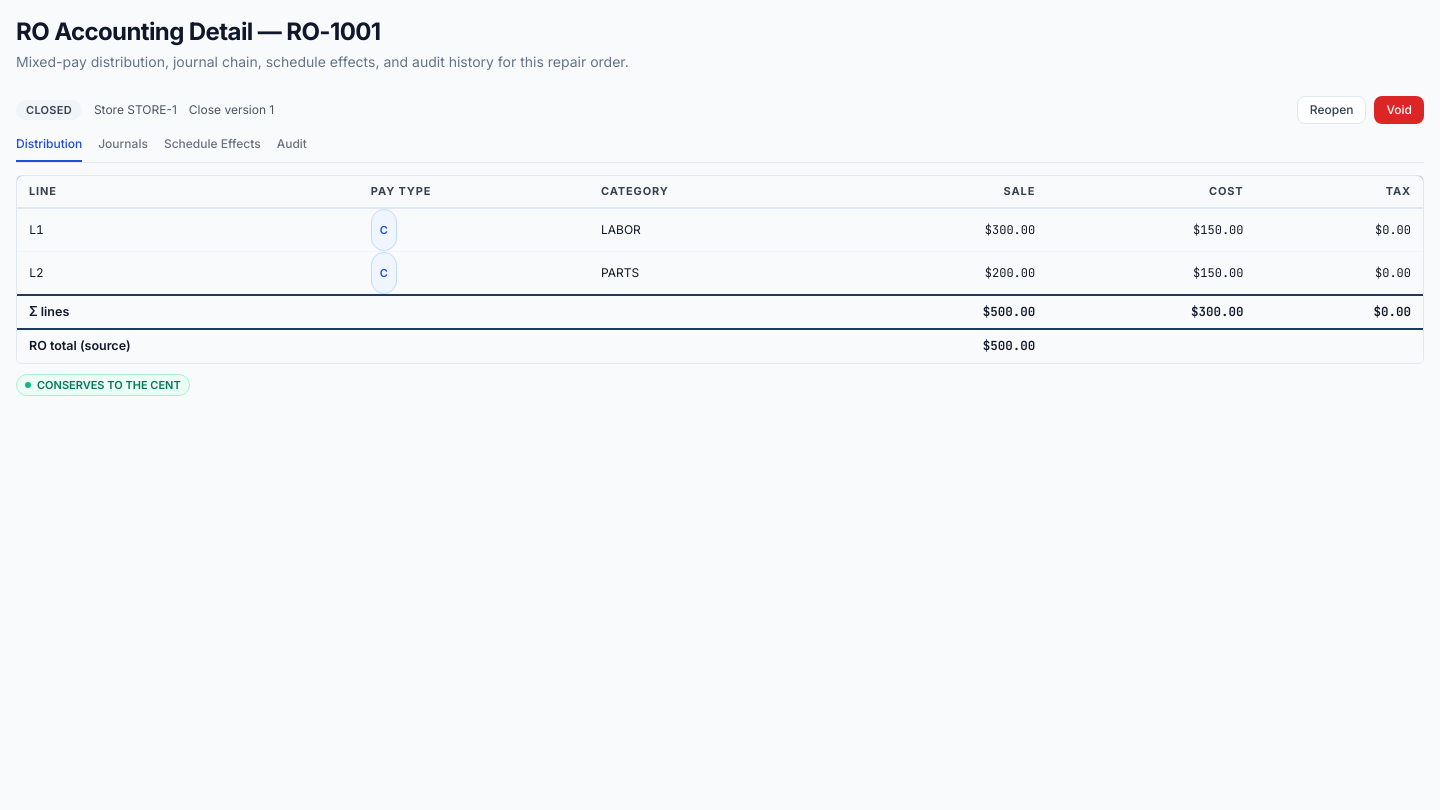
Test case: RoAccountingDetail › shows the refusal reason inline when a reversal is refused
This screenshot has width=1440, height=810.
Expected: the table with test id "ro-distribution-table" is shown, x1=17 y1=176 x2=1423 y2=363
What coordinates should you click on to do the following:
click the button with test id "ro-detail-reopen-button"
I would click on:
 (1332, 110)
Its box is x1=1297 y1=96 x2=1366 y2=124.
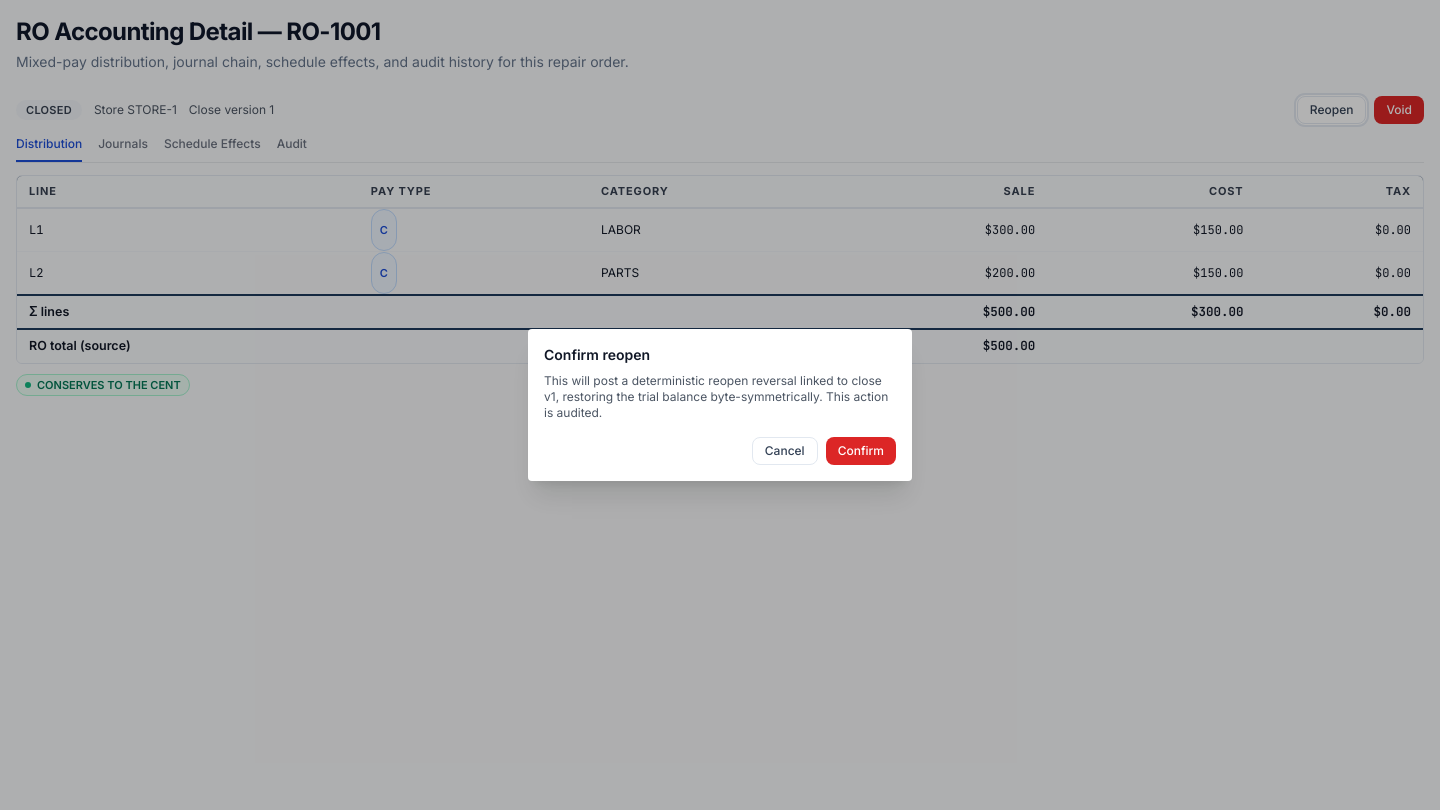
What coordinates should you click on to do the following:
click the button with test id "ro-detail-confirm-submit"
I would click on:
 (861, 451)
Its box is x1=826 y1=437 x2=896 y2=465.
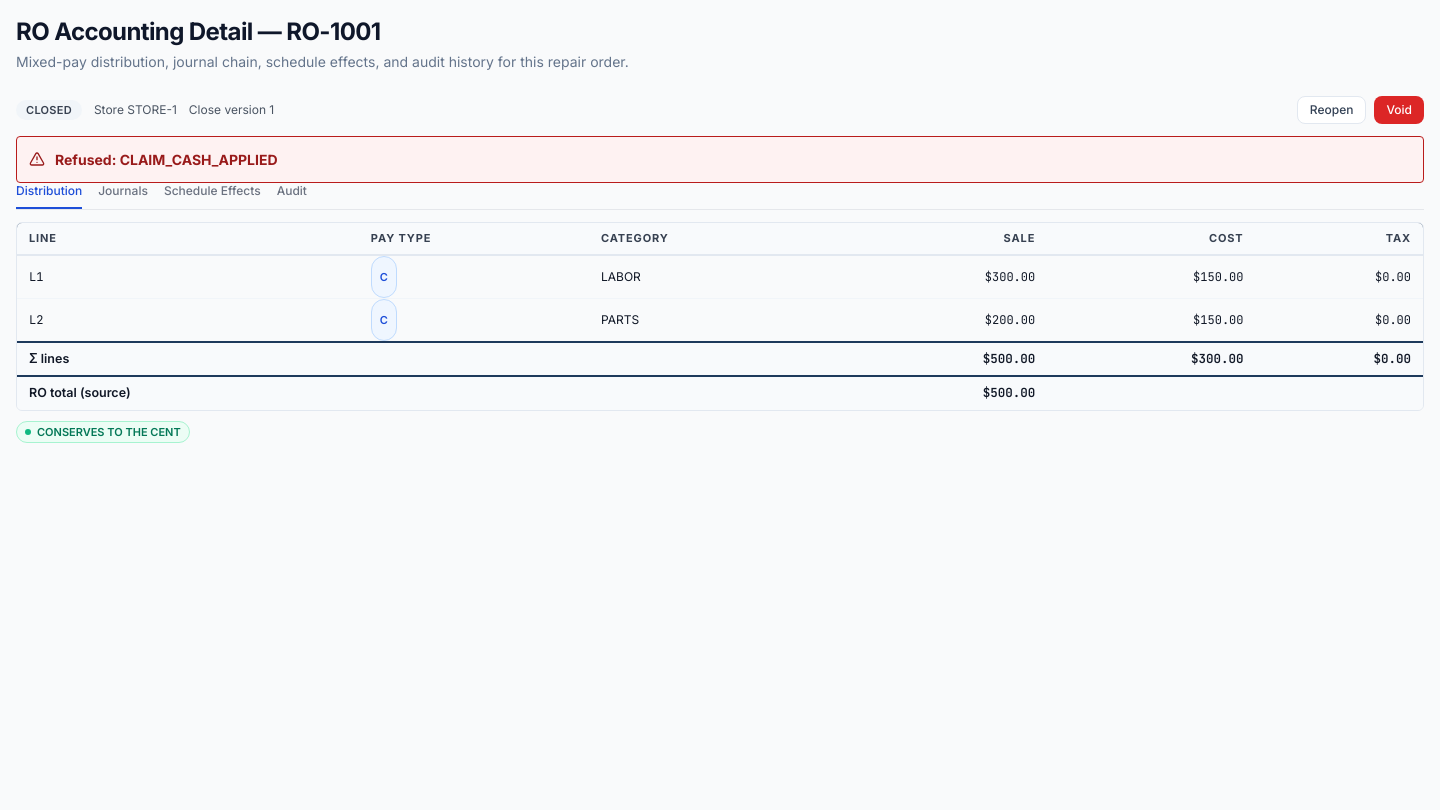
Expected: the element with test id "ro-detail-action-error" shows "CLAIM_CASH_APPLIED", x1=55 y1=151 x2=278 y2=168
